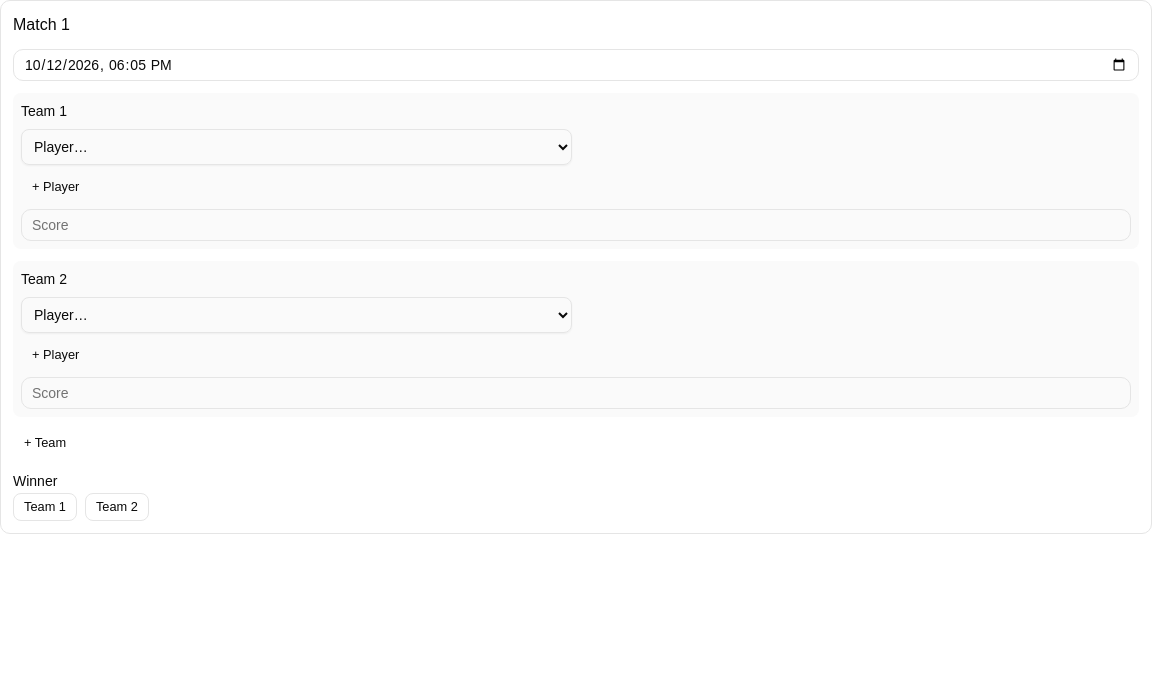
Test case: flexible teams › adds and removes players and teams
Expected: the button "− Player" is not shown
Expected: the button "Remove team" is not shown
Click the 1st button "+ Player" at (56, 187), box [21, 173, 90, 201]
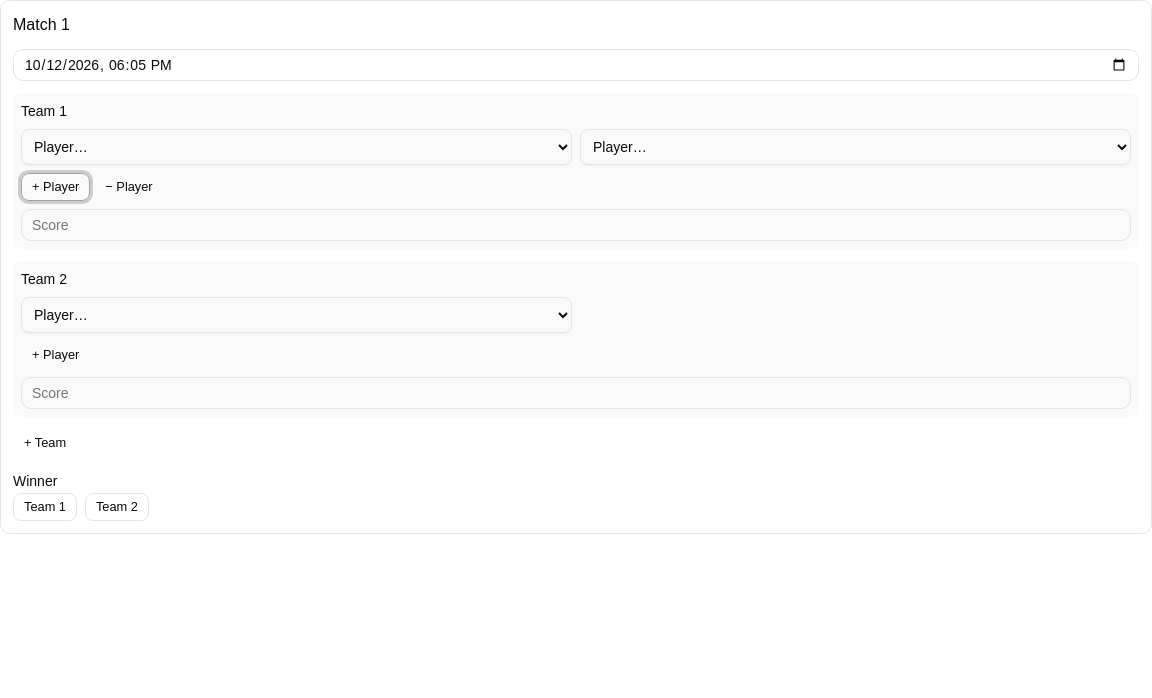
Now the number of buttons "− Player" is 1, box [94, 173, 164, 201]
Click the button "+ Team" at (45, 443), box [13, 429, 77, 457]
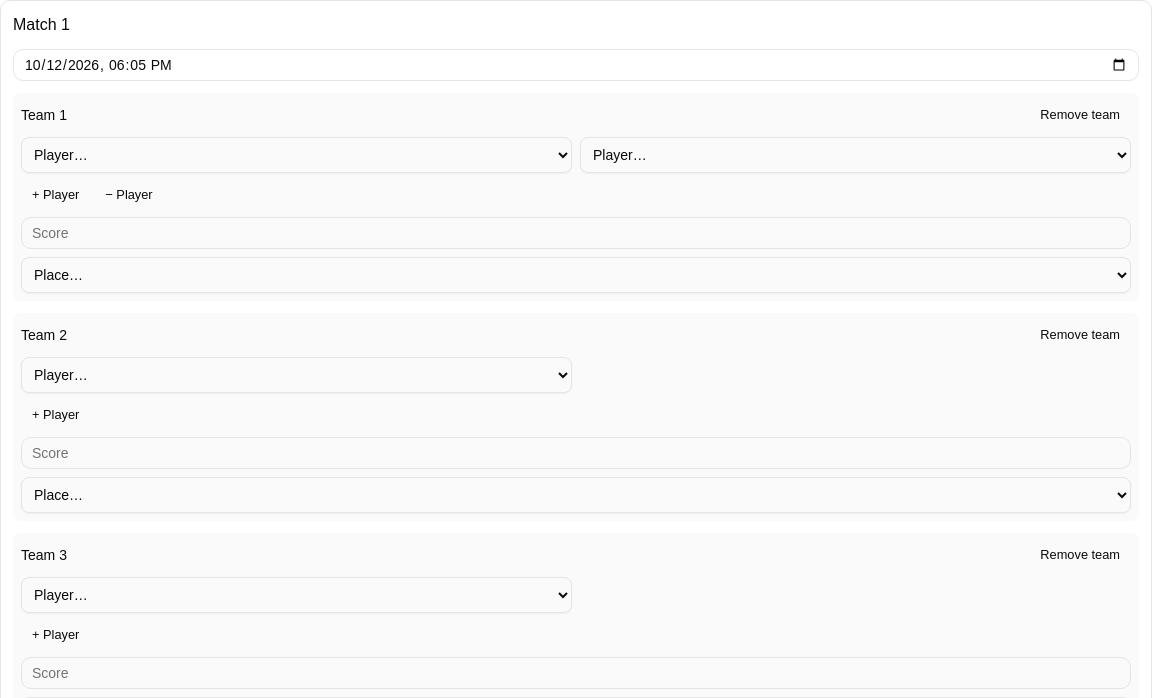
Click the button "− Player" at (129, 195), box [94, 181, 164, 209]
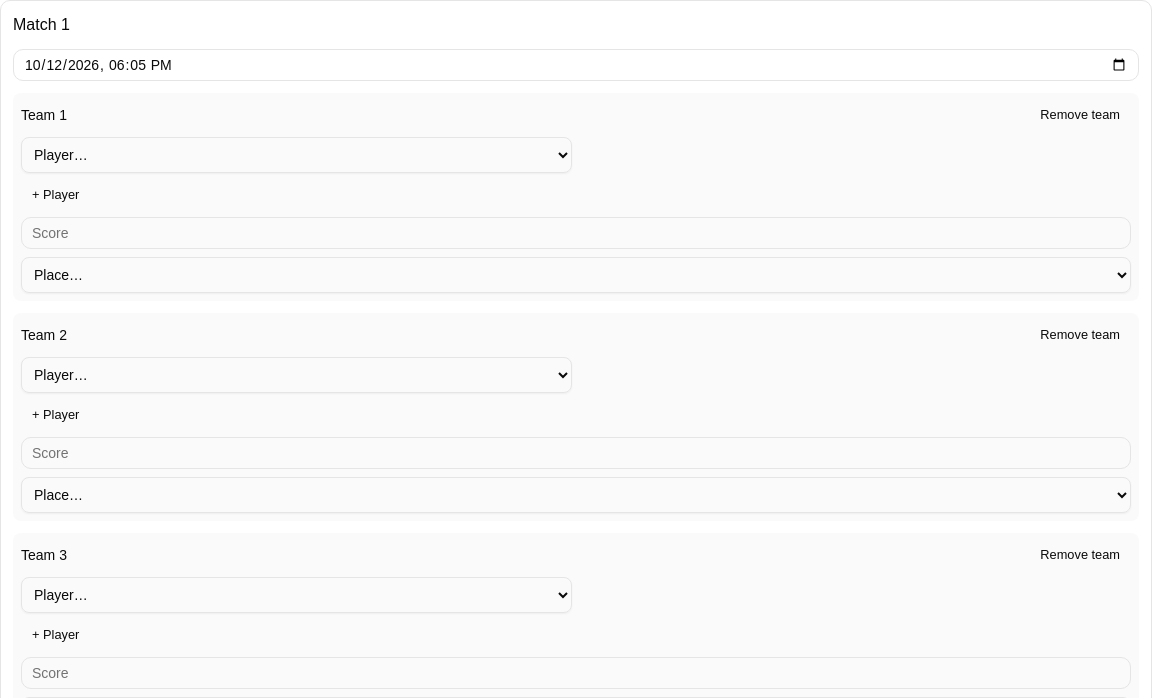
Now the number of buttons "Remove team" is 3
Click the 2nd button "Remove team" at (1080, 335), box [1029, 321, 1131, 349]
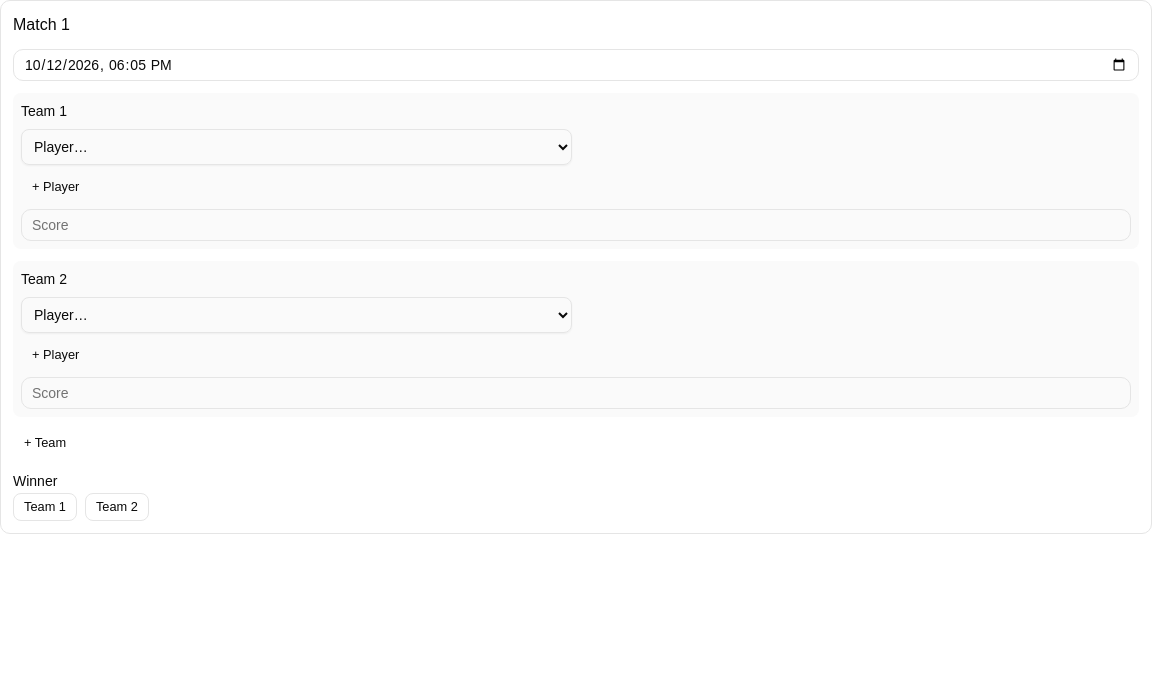
Now the button "Remove team" is gone
